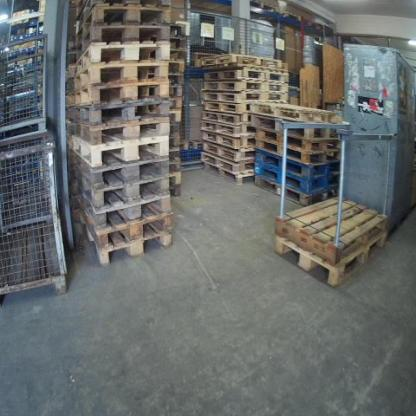pallet: (274, 195, 390, 265), (273, 232, 388, 290), (79, 220, 174, 266), (79, 211, 172, 247), (77, 7, 171, 42), (76, 195, 172, 229), (76, 177, 174, 208), (75, 158, 171, 187), (74, 44, 170, 73), (74, 139, 170, 167), (76, 28, 169, 56), (72, 83, 172, 106), (256, 169, 340, 195), (71, 123, 170, 144), (258, 180, 335, 207), (257, 131, 340, 154), (259, 157, 340, 180), (72, 106, 171, 124), (252, 103, 332, 124), (67, 68, 169, 83), (253, 120, 338, 138), (202, 68, 287, 82), (256, 148, 341, 162), (204, 165, 255, 187), (202, 82, 290, 93), (202, 153, 257, 170), (201, 132, 256, 149), (204, 143, 257, 160), (202, 93, 290, 103), (201, 111, 252, 127), (200, 123, 255, 137), (204, 101, 250, 114), (169, 150, 184, 172), (171, 60, 187, 75), (172, 24, 188, 39), (172, 39, 188, 51), (171, 111, 184, 124), (171, 75, 185, 87), (174, 172, 184, 188), (171, 98, 183, 111), (171, 51, 188, 60), (168, 139, 181, 150), (168, 126, 179, 139), (171, 87, 183, 98), (174, 188, 183, 199)
stillage: (1, 125, 72, 311), (2, 28, 52, 137)
